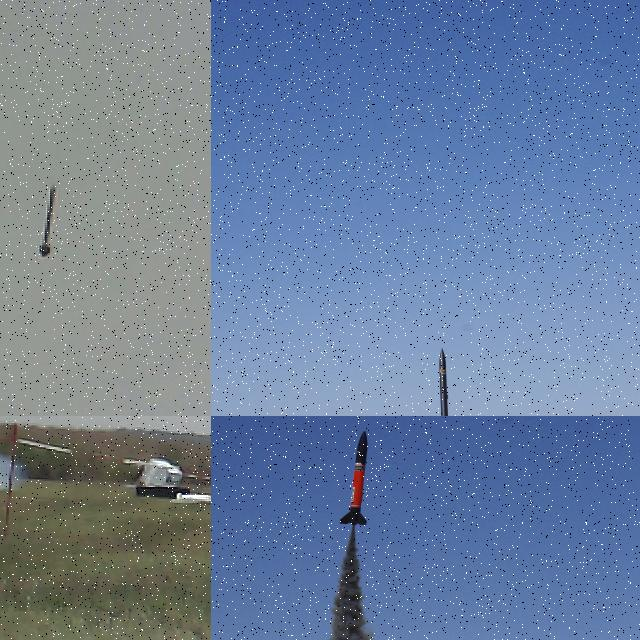Rocket: (338, 430, 372, 526), (429, 347, 455, 416), (35, 182, 57, 258)
